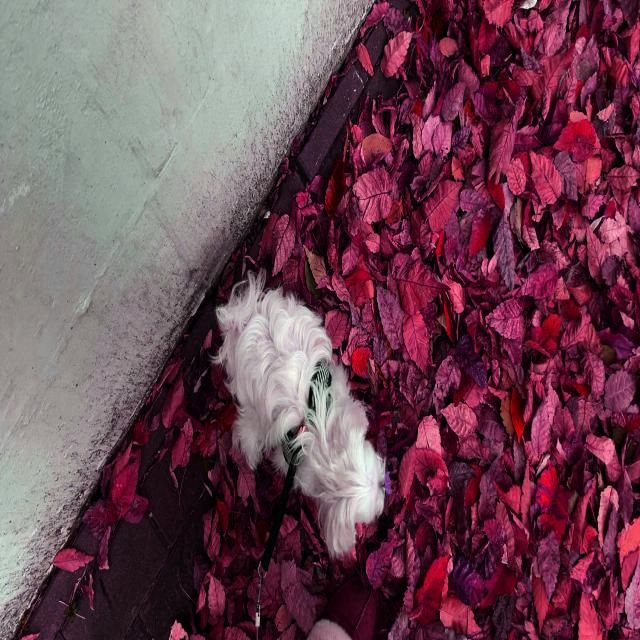Dog: (206, 266, 386, 550)
